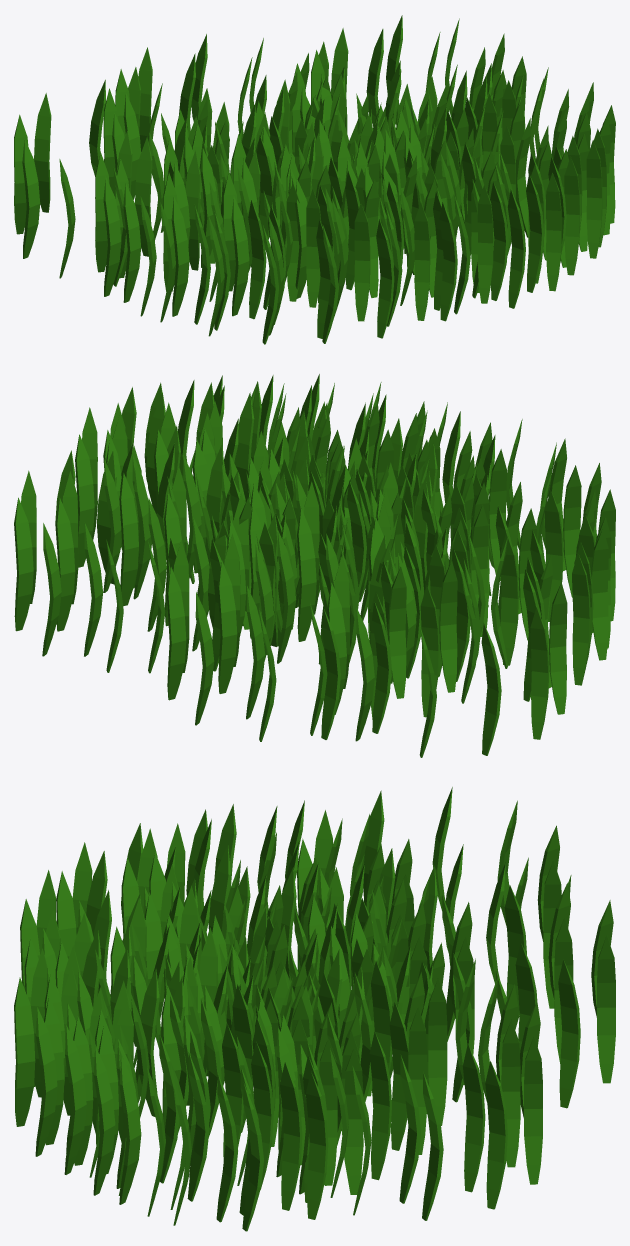
The model's file is herbe .fbx.
3 views of the same model, one above another, from view 1: azimuth 30°, elevation 25°; view 2: azimuth 150°, elevation 25°; view 3: azimuth 270°, elevation 25° (orthographic). The views are drawn at different scales.
Visible parts, largest first — view 1: tas d'herbe; view 2: tas d'herbe; view 3: tas d'herbe.
Part boxes in pixels (left/top/right/bottom): tas d'herbe: left=14, top=15, right=615, bottom=344; tas d'herbe: left=14, top=374, right=615, bottom=757; tas d'herbe: left=14, top=787, right=615, bottom=1231.
Size of the model in its own units: 245 by 56.64 by 208.
